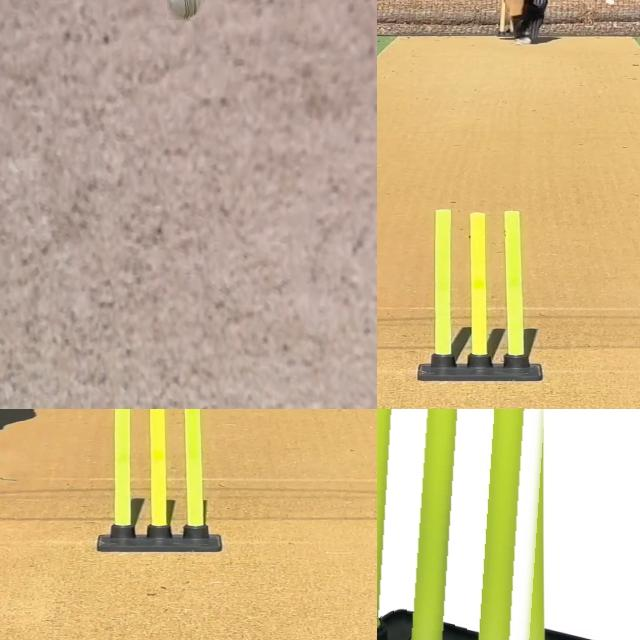Cricket ball: (166, 0, 208, 20), (604, 0, 616, 5)
Stumps: (377, 409, 564, 640), (417, 208, 544, 381), (90, 409, 222, 550)
